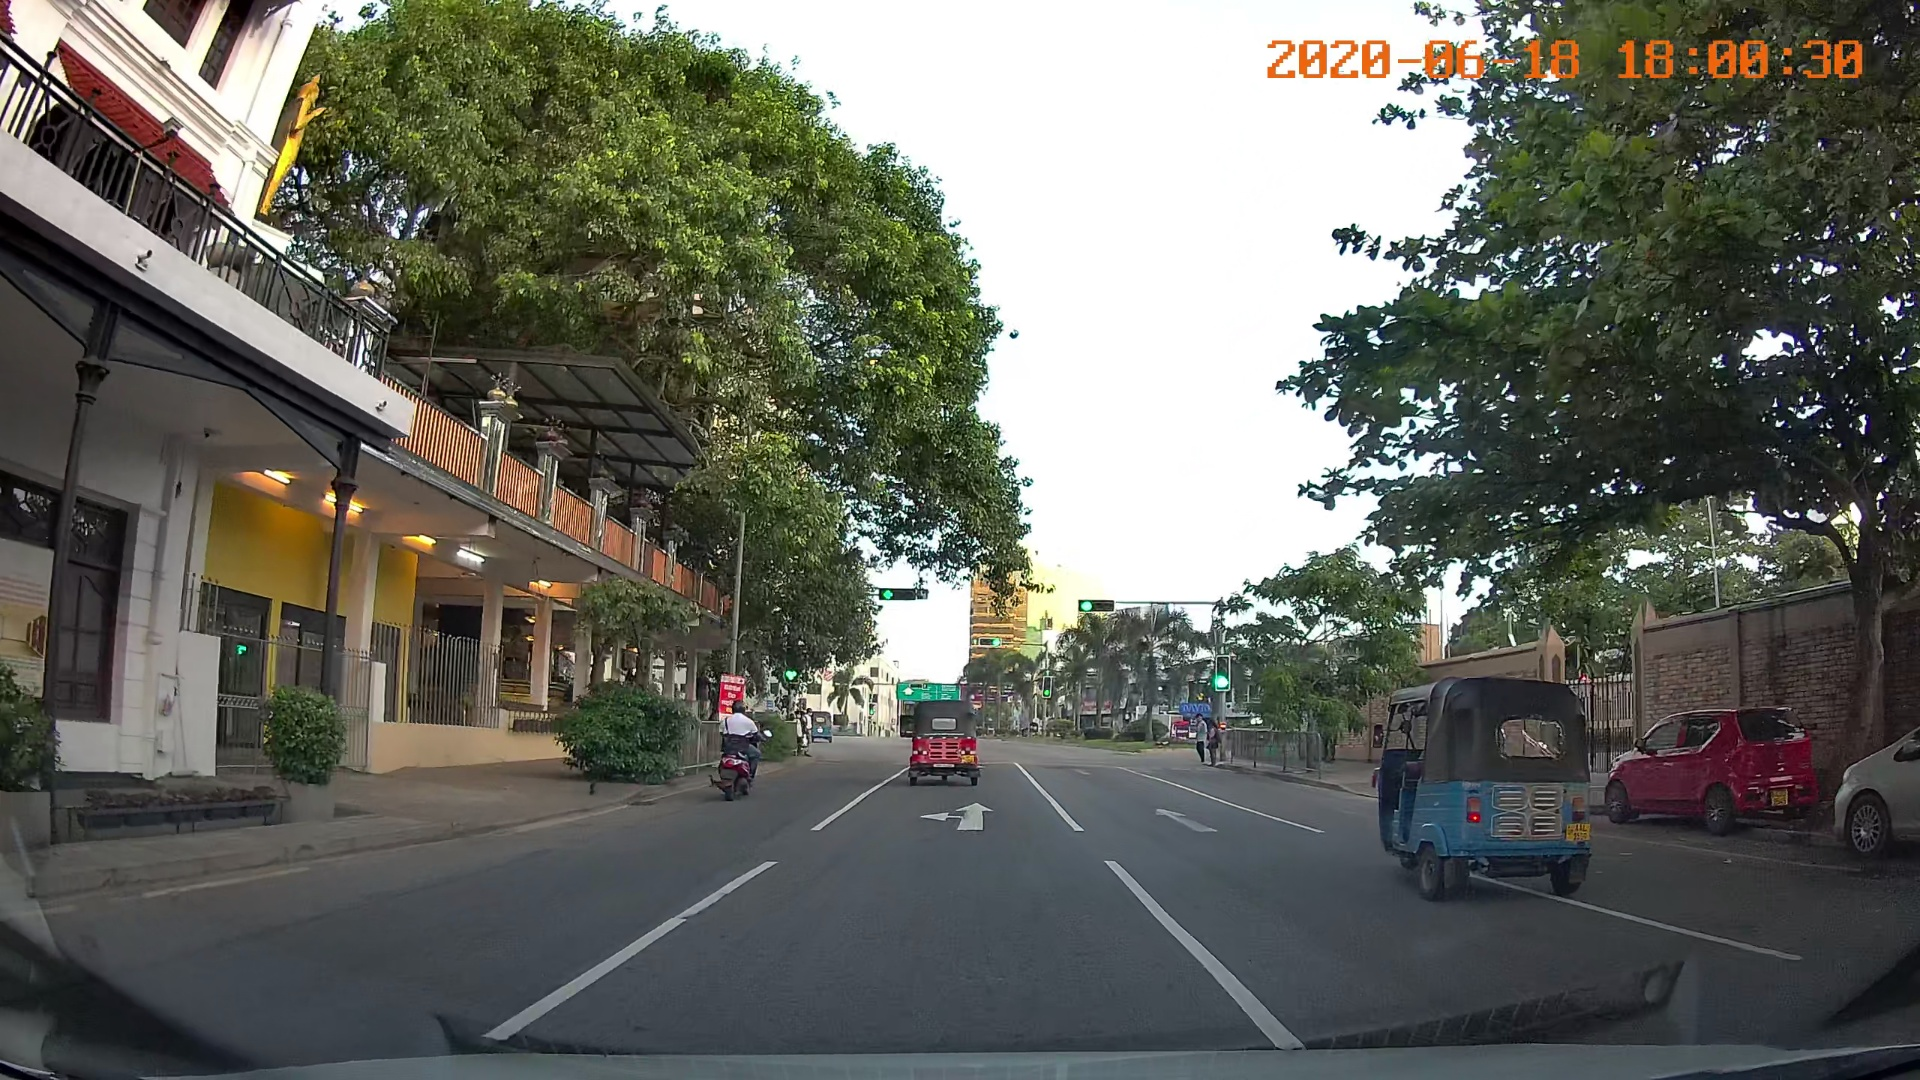arrow: (916, 802, 1006, 841), (1138, 796, 1212, 829)
